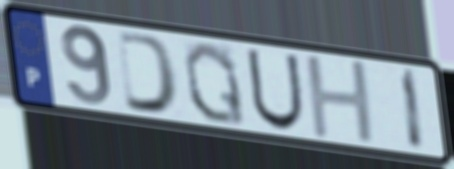9: (59, 23, 115, 109)
D: (115, 28, 183, 118)
H: (302, 54, 380, 145)
I: (399, 65, 428, 155)
Q: (181, 39, 249, 129)
U: (243, 46, 306, 133)
